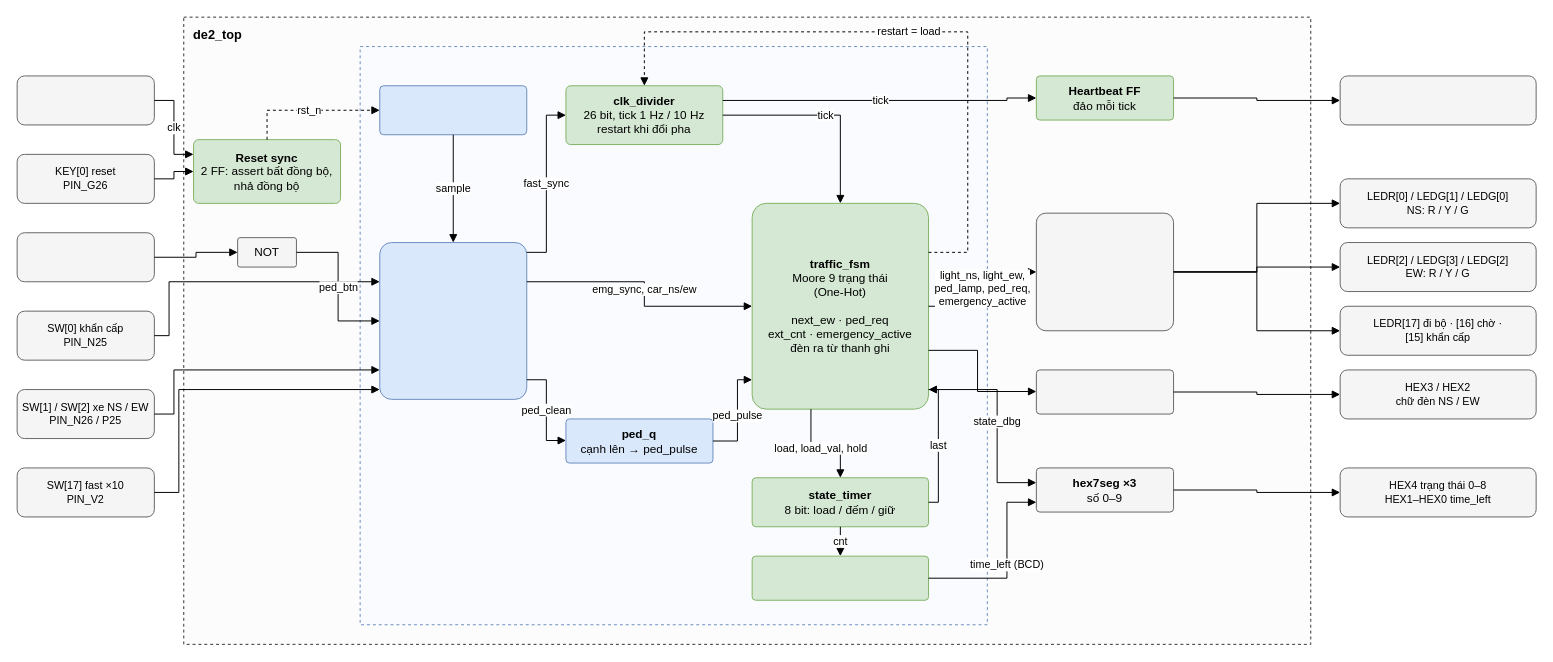
Image size: 1553x662. Some labels were removed from this diagram. Each missing label, with the box of its shape:
bin2bcd8 double dabble: (751, 555, 929, 600)
CLOCK_50 PIN_N2: (16, 75, 154, 125)
Ghép LED: (1035, 212, 1174, 331)
KEY[1] người đi bộ PIN_N23: (16, 232, 154, 282)
lamp7seg ×2 r / y / G: (1035, 369, 1174, 414)
LEDG[8] nhịp tim: (1339, 75, 1536, 125)
strobe_gen 18 bit, 1 xung / 5 ms: (379, 85, 527, 135)
sync_debounce ×5 2 FF đồng bộ + 3 mẫu bằng nhau: (379, 242, 527, 399)
traffic_top (TICK_DIV = 50 000 000 · FAST_DIV = 5 000 000 · DB_DIV = 250 000): (359, 46, 987, 625)
